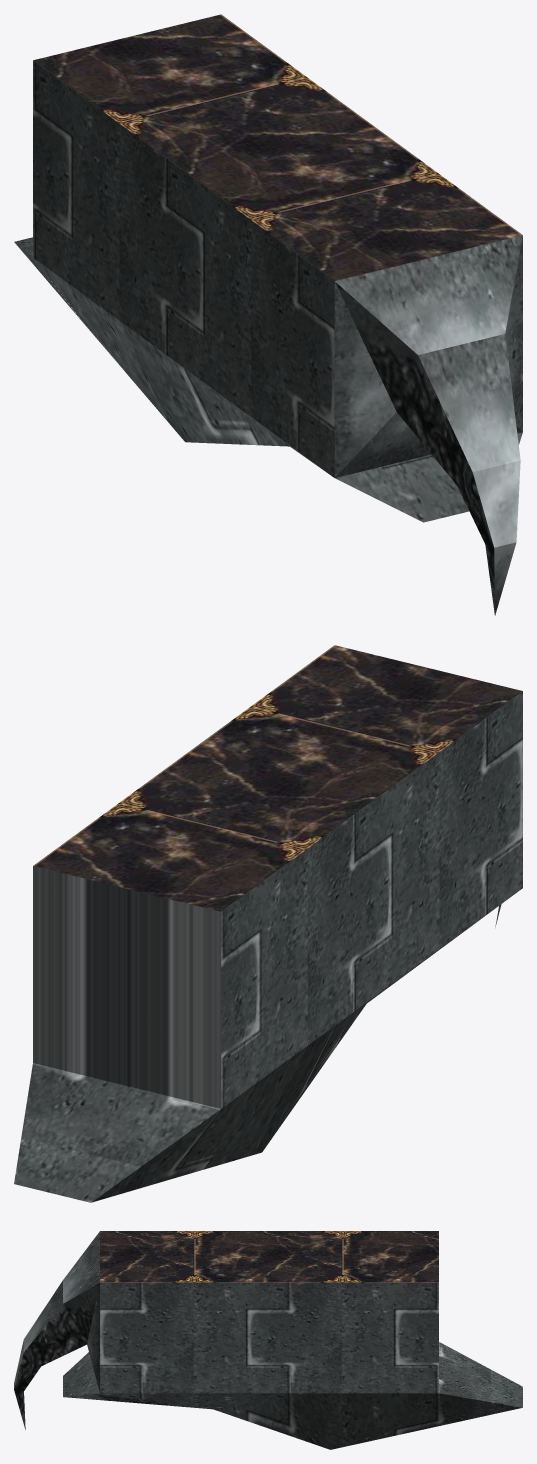
The picture shows the model from 3 angles, top to bottom: view 1: azimuth 30°, elevation 25°; view 2: azimuth 150°, elevation 25°; view 3: azimuth 270°, elevation 25°; orthographic projection. The views are drawn at different scales.
Parts seen in each view (by area): view 1: model_Object63; view 2: model_Object63; view 3: model_Object63.
Part boxes in pixels (bbox=[...]): model_Object63: bbox=[14, 14, 522, 615]; model_Object63: bbox=[14, 645, 522, 1202]; model_Object63: bbox=[14, 1231, 522, 1449].
Bounding box in the file's own units: 1 × 1.65 × 4.17.
Materials: 5 (5 with a texture image).
